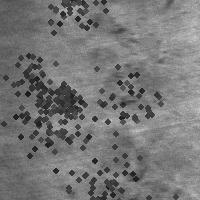rolled-in_scale: (75, 49, 181, 155), (0, 63, 99, 169), (44, 122, 164, 200), (21, 0, 117, 48), (98, 22, 148, 113), (0, 42, 62, 110), (40, 74, 90, 124)
